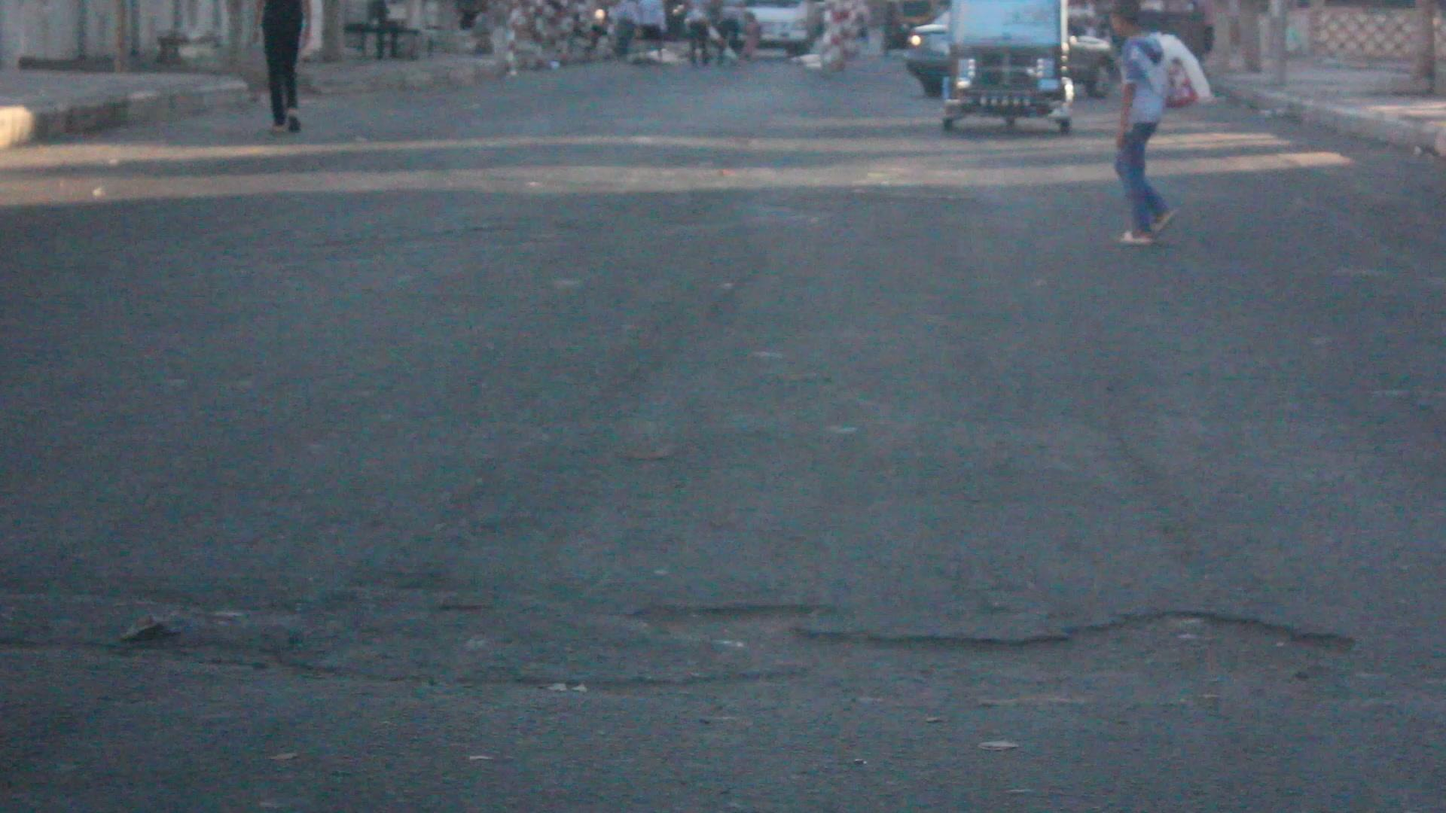Pothole: (614, 574, 1386, 738), (96, 598, 448, 715)
